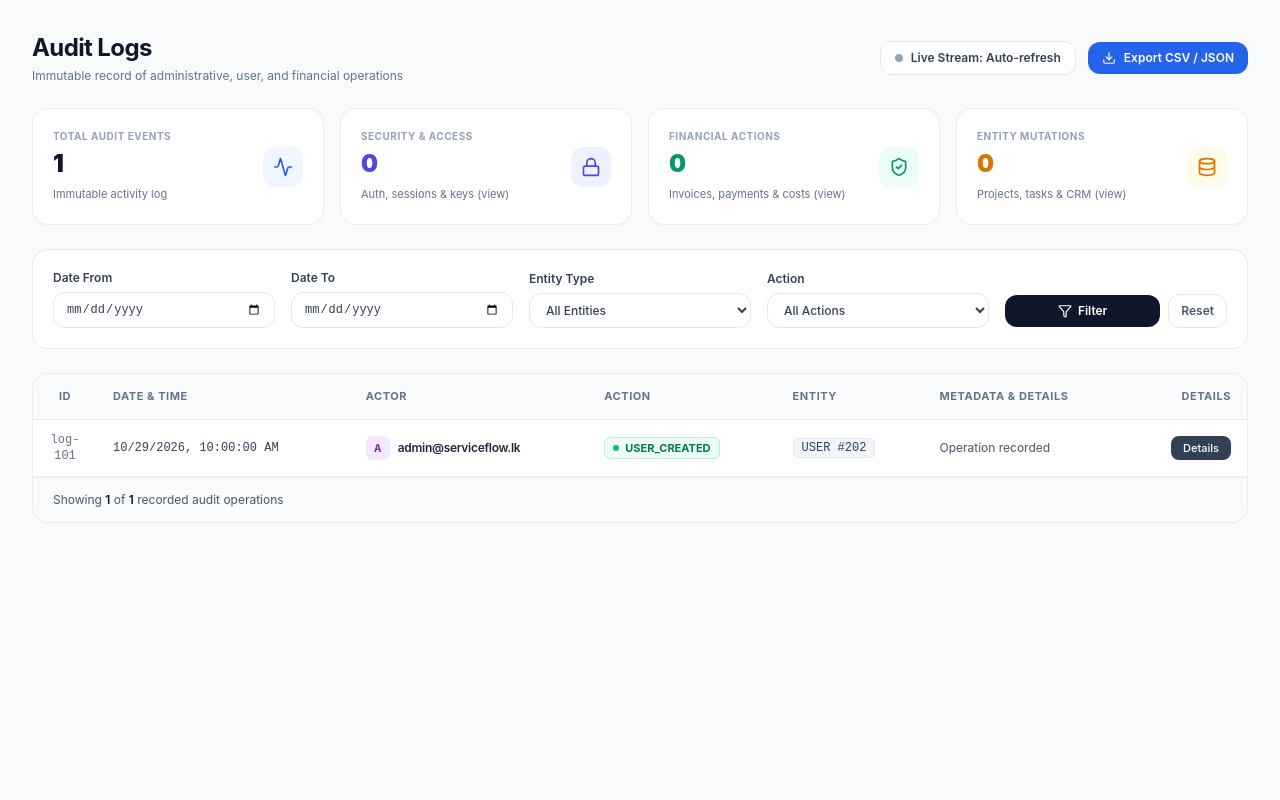
Test case: AuditLogs Component › toggling the 'Details' button expands the row to show JSON text
Expected: the text "staff1@serviceflow.lk" is not shown
Click the button "Details" at (1201, 448), box left=1171, top=436, right=1231, bottom=460
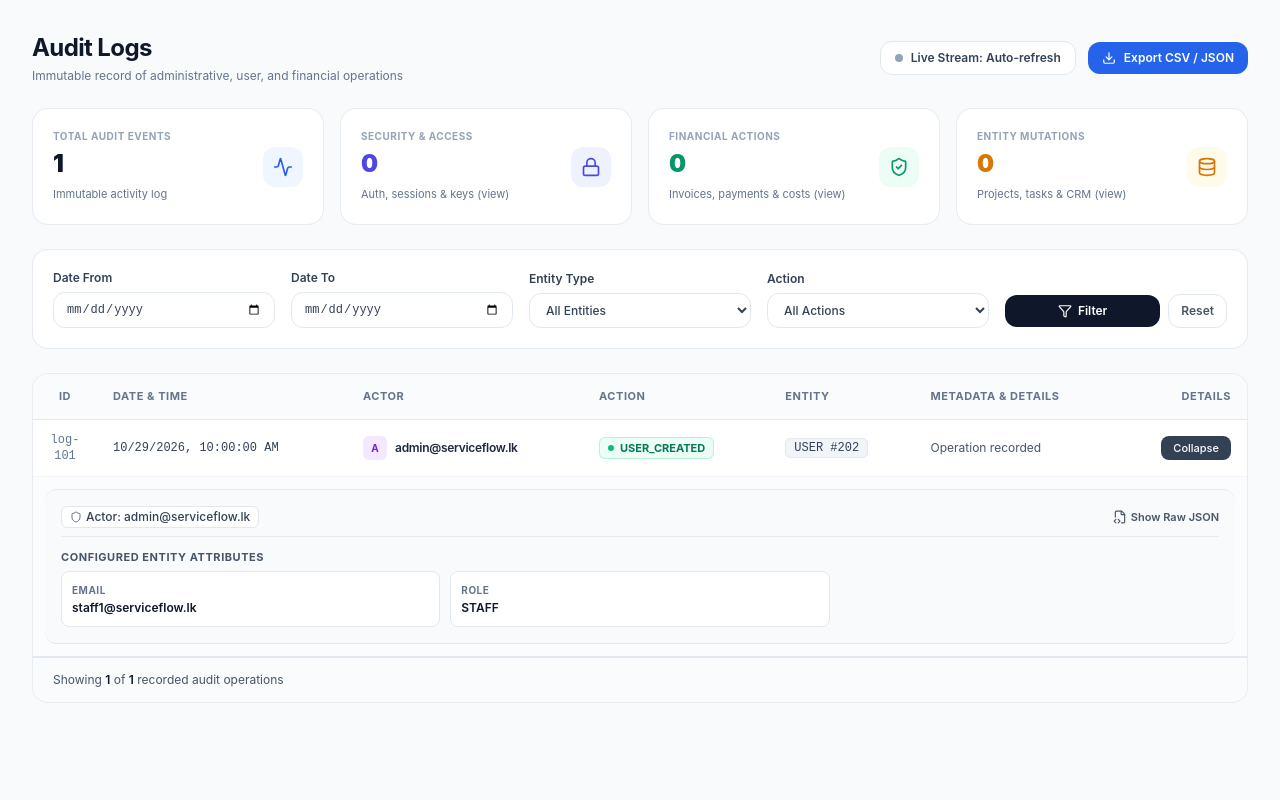
Result: the text "staff1@serviceflow.lk" is shown at left=72, top=600, right=196, bottom=614
Click the button named "Details" at (1196, 448), box left=1161, top=436, right=1231, bottom=460
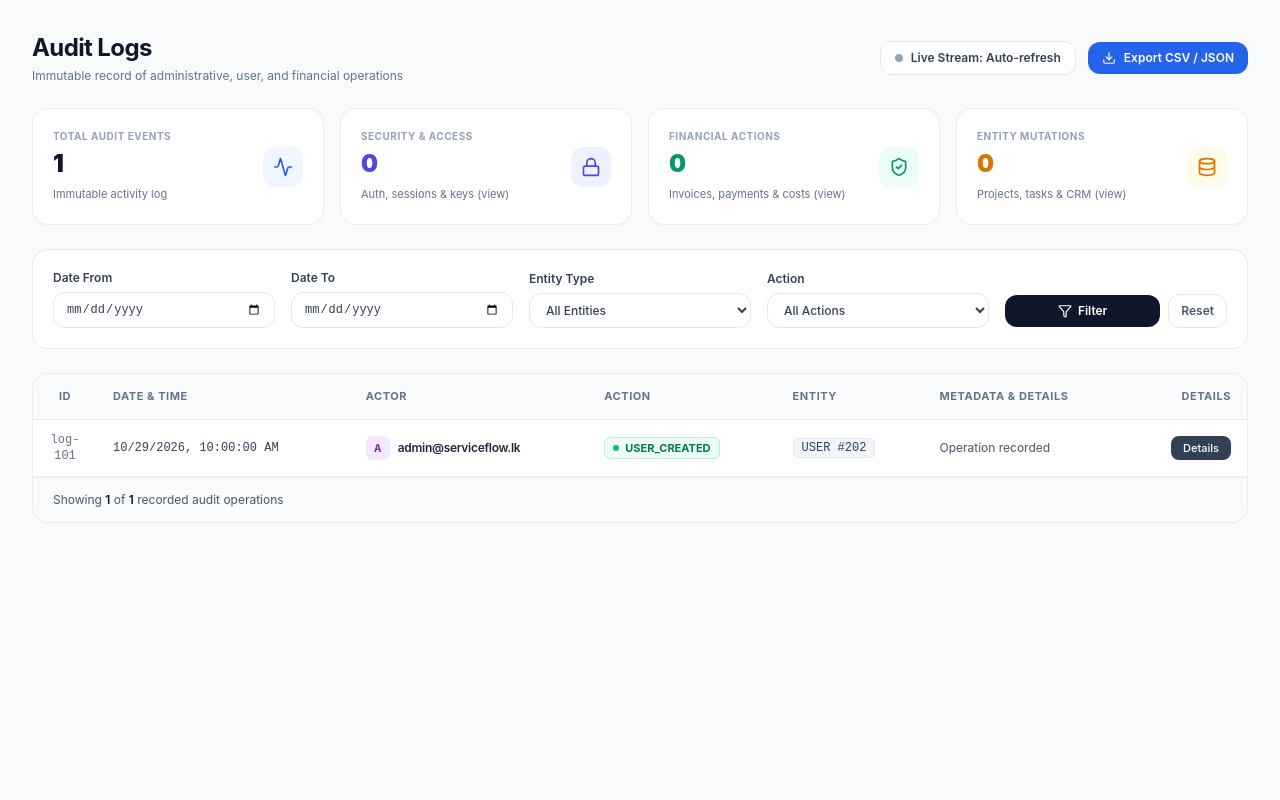
Result: the text "staff1@serviceflow.lk" is gone
